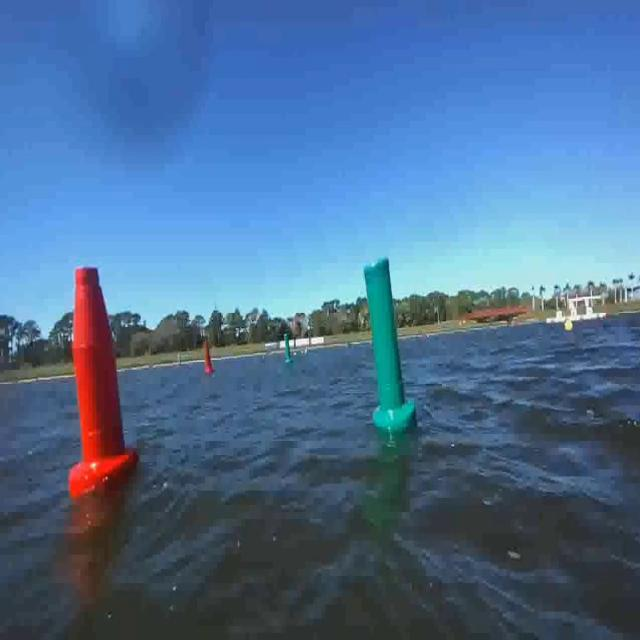green-column-buoy: (366, 254, 417, 431), (283, 334, 294, 366)
red-column-buoy: (68, 265, 138, 498), (203, 342, 215, 375)
yellow-buoy: (565, 321, 573, 336)
